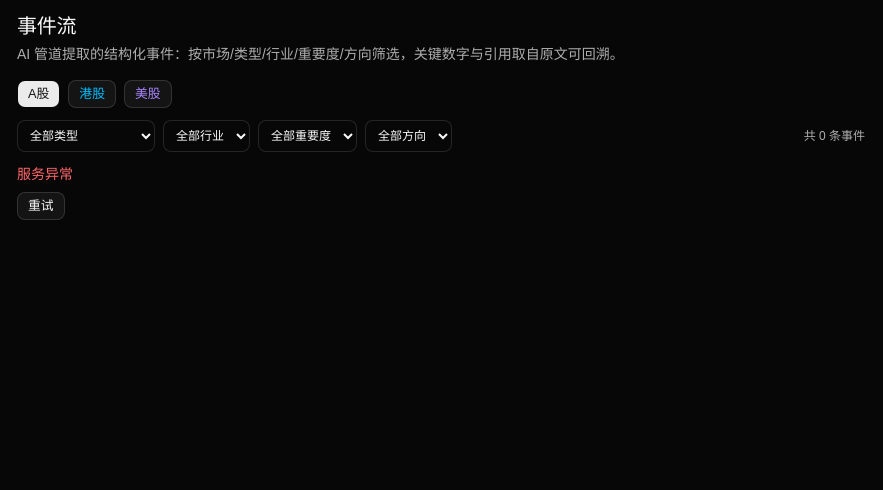
Scenario: Events 事件流页（T127 + T224 分页化，#/events） › 错误态：首屏失败展示错误与重试，重试成功恢复列表
expect the element with test id "events-error" shows "服务异常": met, box [17, 166, 73, 182]
Click the button with test id "events-retry".
click(41, 206)  # box [17, 192, 65, 220]
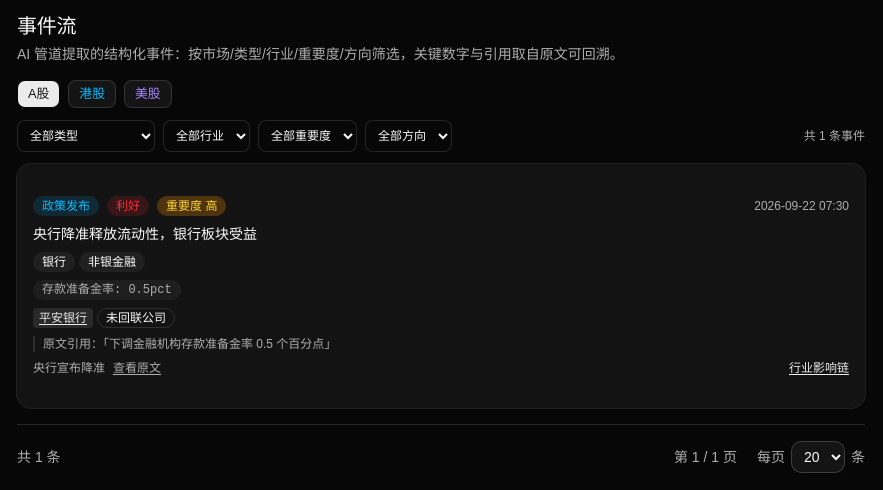
expect the element with test id "event-card-9" is shown: met, box [17, 164, 865, 408]
